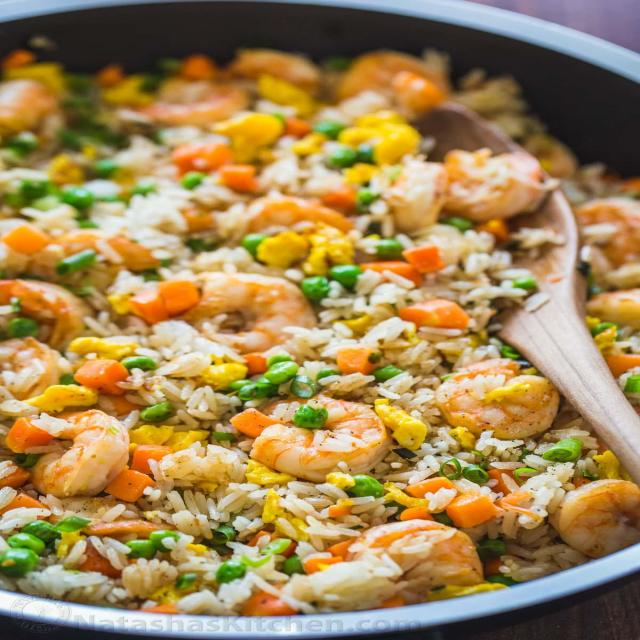Nasi Goreng: (2, 46, 637, 616)
